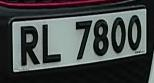0: (126, 10, 143, 56), (110, 14, 126, 56)
7: (73, 20, 93, 59)
8: (92, 16, 110, 59)
L: (40, 23, 64, 66)
R: (17, 22, 40, 70)
